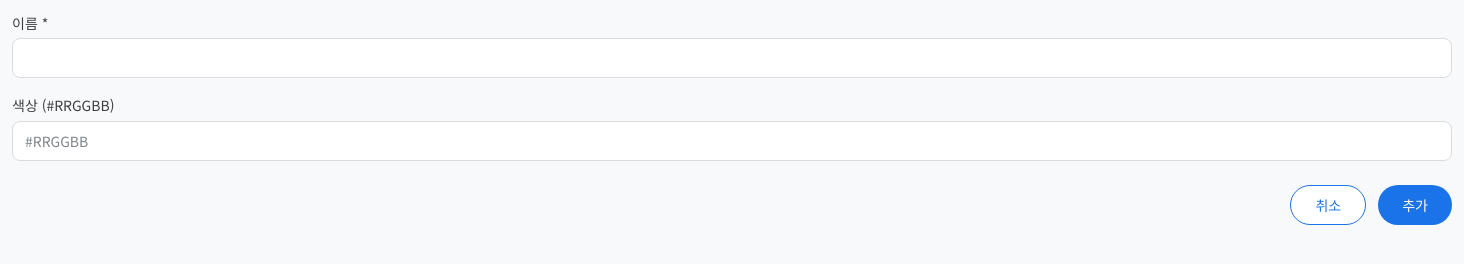
Test: CategoryForm › 색상이 #RRGGBB 형식이 아닌 경우 유효성 에러가 표시된다
Type "테스트" into the field labelled "이름 *" at (732, 58), box [12,38,1452,78]
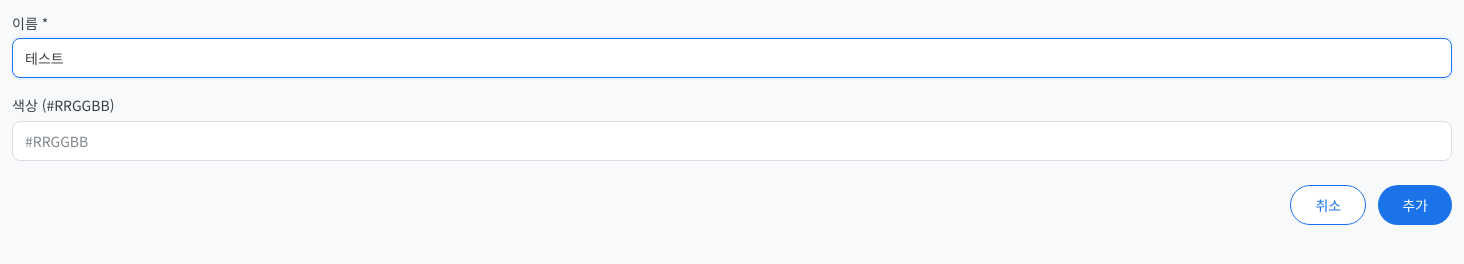
Type "invalid" into the field with placeholder "#RRGGBB" at (732, 141), box [12,121,1452,161]
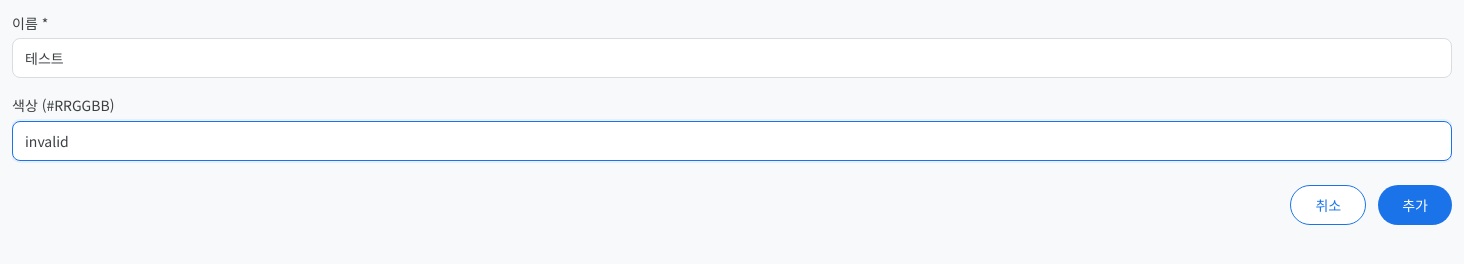
Click the button "추가" at (1415, 205), box [1378,185,1452,225]
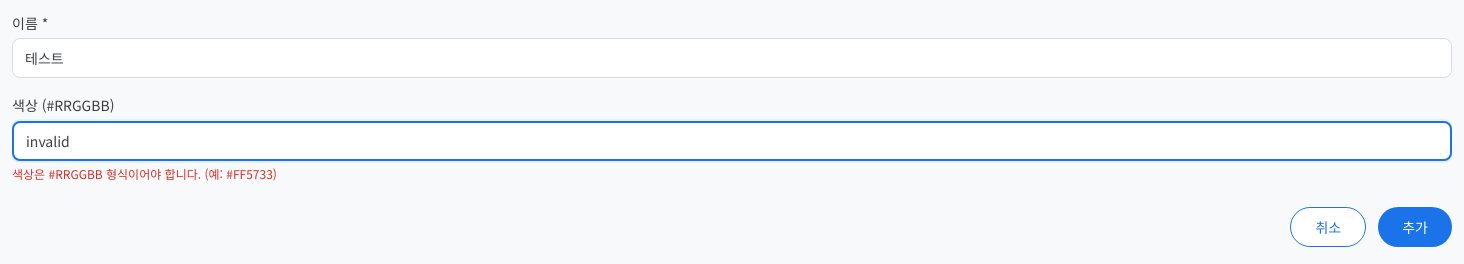
Now the text "#RRGGBB 형식이어야 합니다" is shown, box [12,165,277,182]
